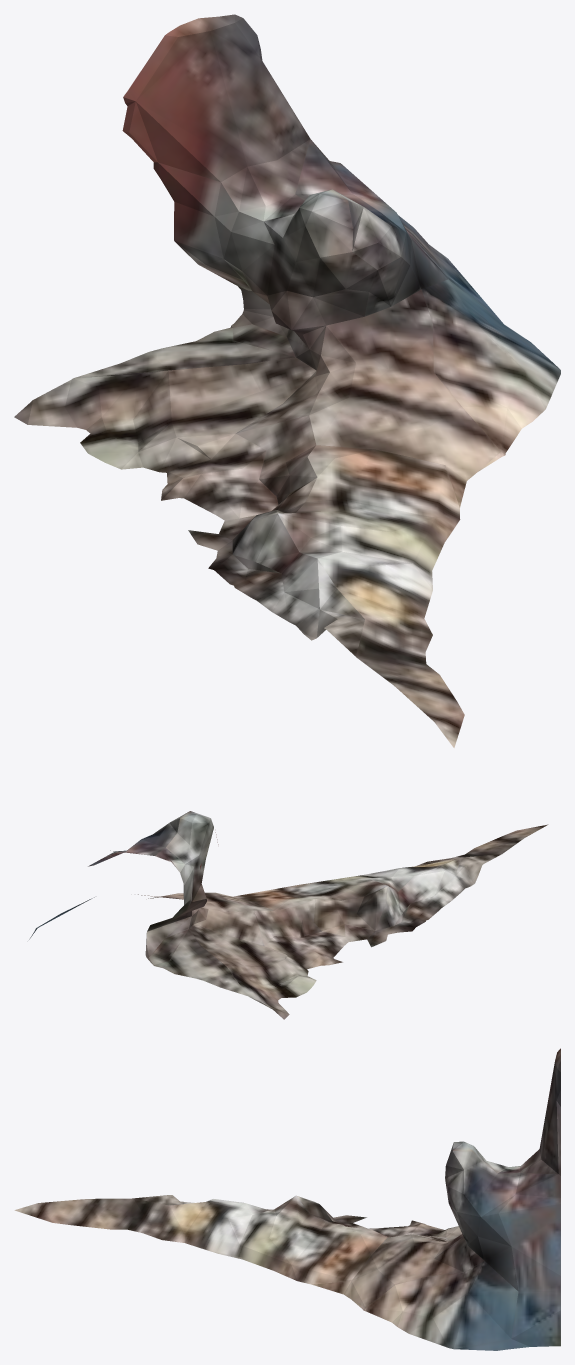
The picture shows the model from 3 angles, top to bottom: view 1: azimuth 30°, elevation 25°; view 2: azimuth 150°, elevation 25°; view 3: azimuth 270°, elevation 25°; orthographic projection. The views are drawn at different scales.
Size of the model in its own units: 1.54 by 1.1 by 2.53.
1 material, 1 textured.
